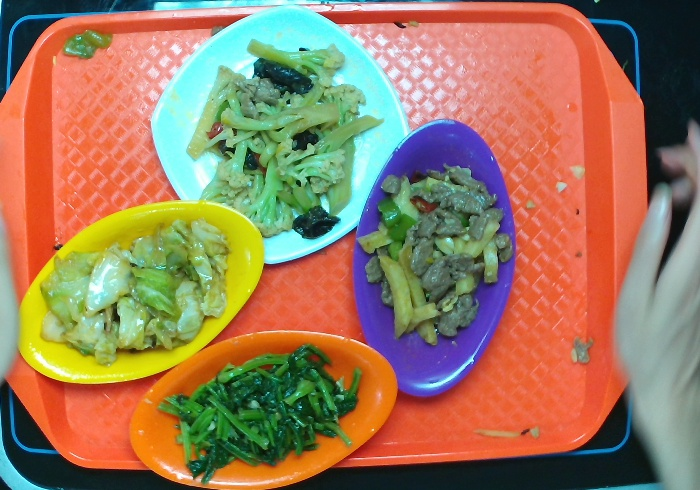RJxy-Fen_Hong_Tuo_Yuan: (347, 116, 521, 405)
RJxy-Huang_Se_Tuo_Yuan: (14, 197, 269, 389)
RJxy-Ju_Huang_Tuo_Yuan: (121, 327, 403, 487)
RJxy-Si_Fang_Die: (144, 1, 413, 270)
